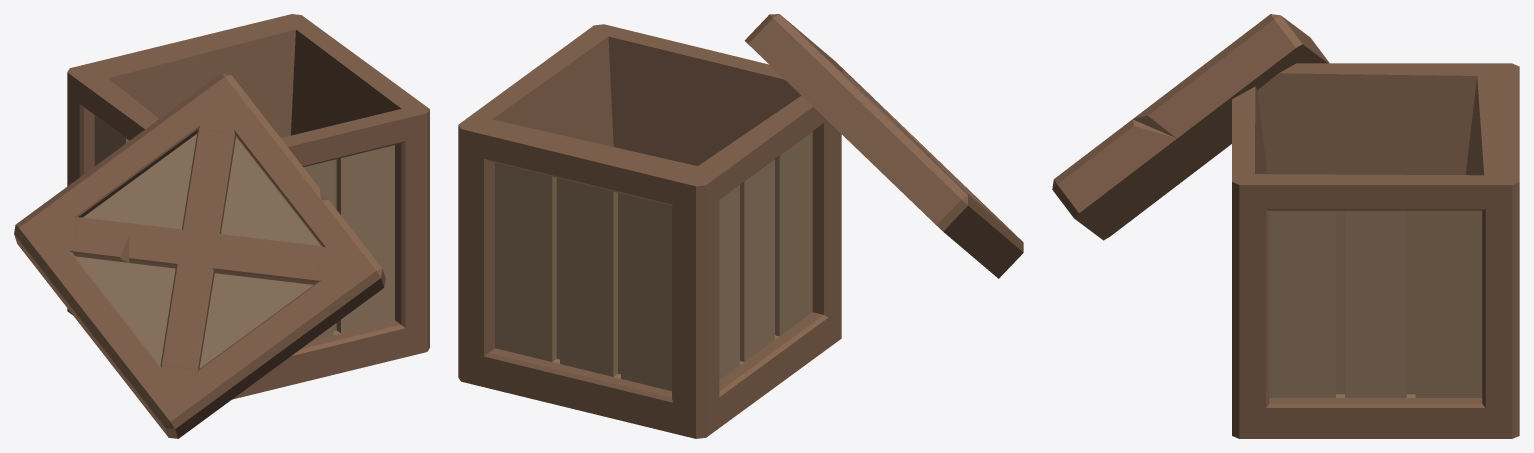
The model's file is crate_open.glb.
3 renders of one model, left to right at view 1: azimuth 30°, elevation 25°; view 2: azimuth 150°, elevation 25°; view 3: azimuth 270°, elevation 25°, orthographic. The views are drawn at different scales.
Parts seen in each view (by area): view 1: Cube.003, Cube.001; view 2: Cube.001, Cube.003; view 3: Cube.001, Cube.003.
Part boxes in pixels (<box>): Cube.003: <box>14,73,385,438</box>; Cube.001: <box>67,14,429,399</box>; Cube.001: <box>458,24,841,438</box>; Cube.003: <box>744,14,1023,278</box>; Cube.001: <box>1232,63,1519,438</box>; Cube.003: <box>1052,14,1329,240</box>.
Bounding box in the file's own units: 1.64 × 1.25 × 1.62.
Materials: 1 (1 with a texture image).
